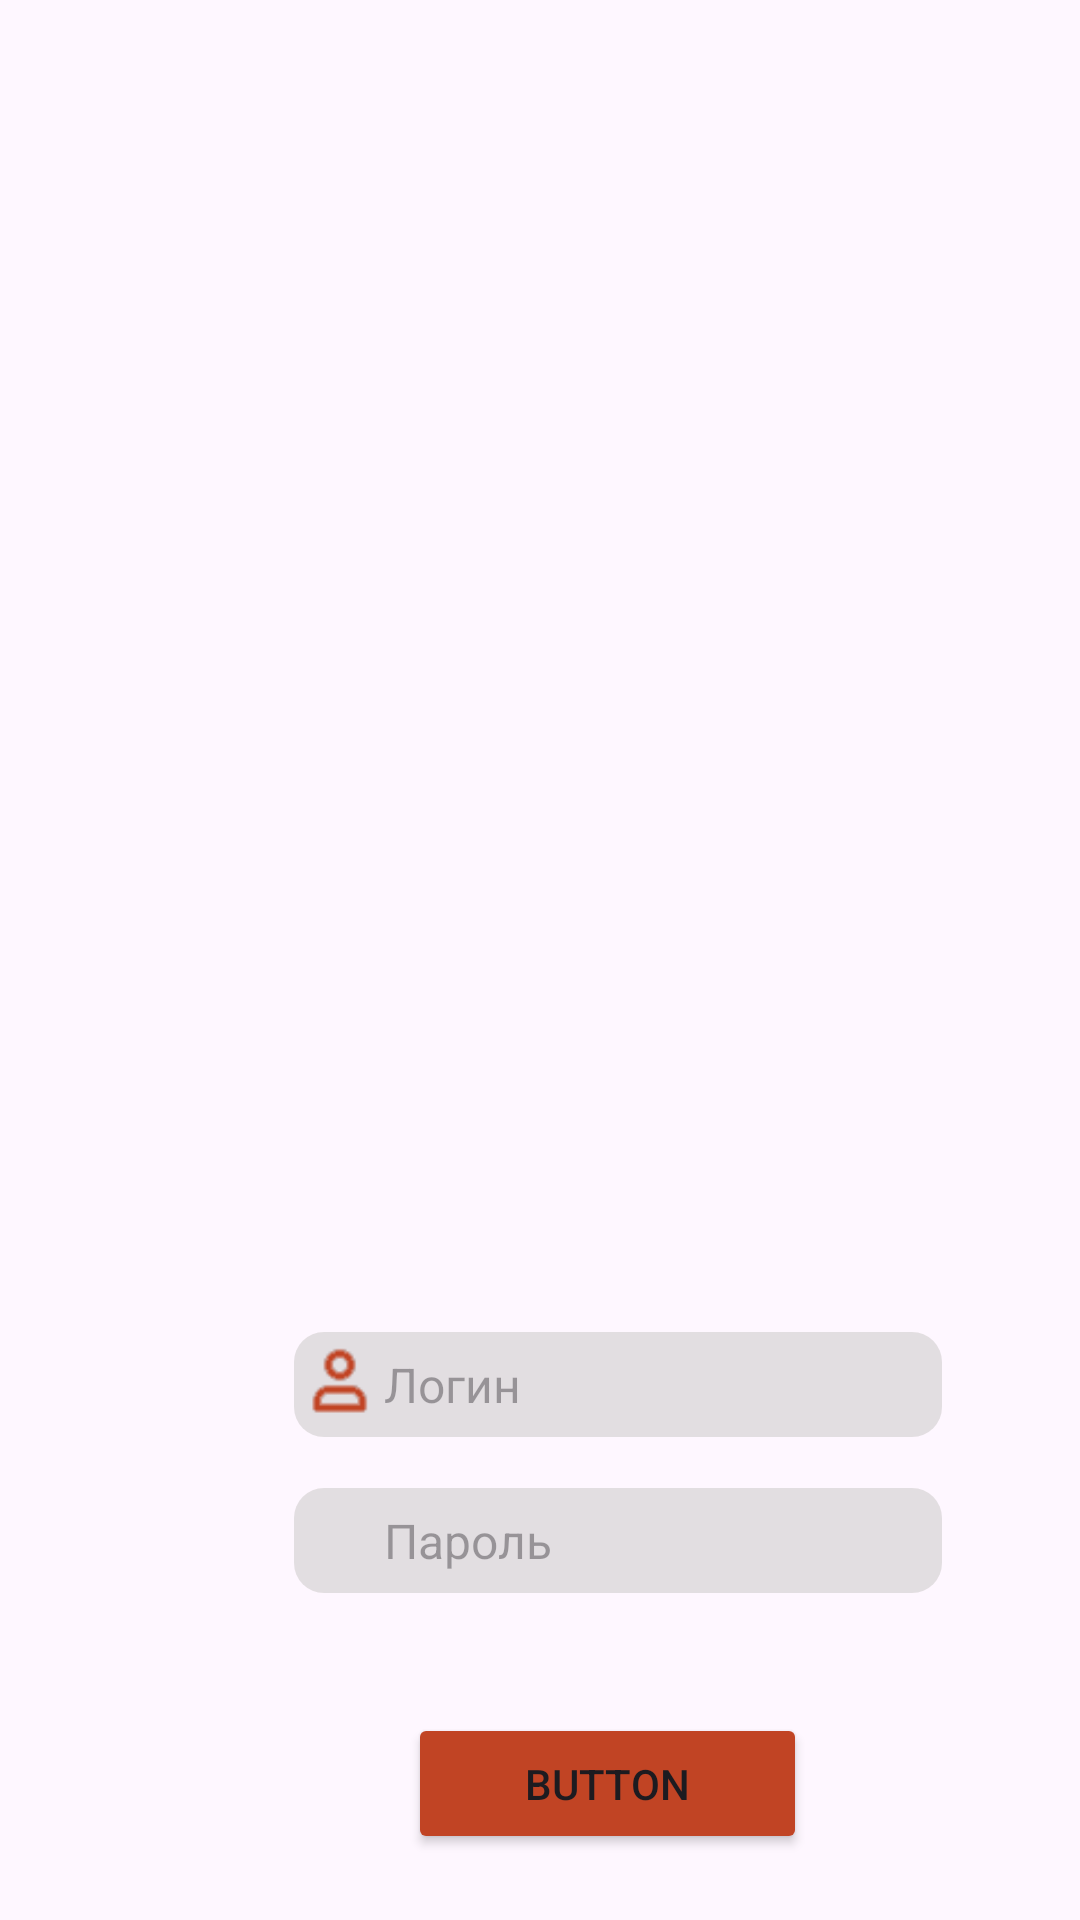

Where to tap for icons on this 1080*1920 app screen, as point (x, y):
man: point (339, 1381)
